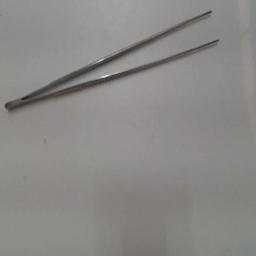DeBakey Dissector: (2, 4, 228, 118)
